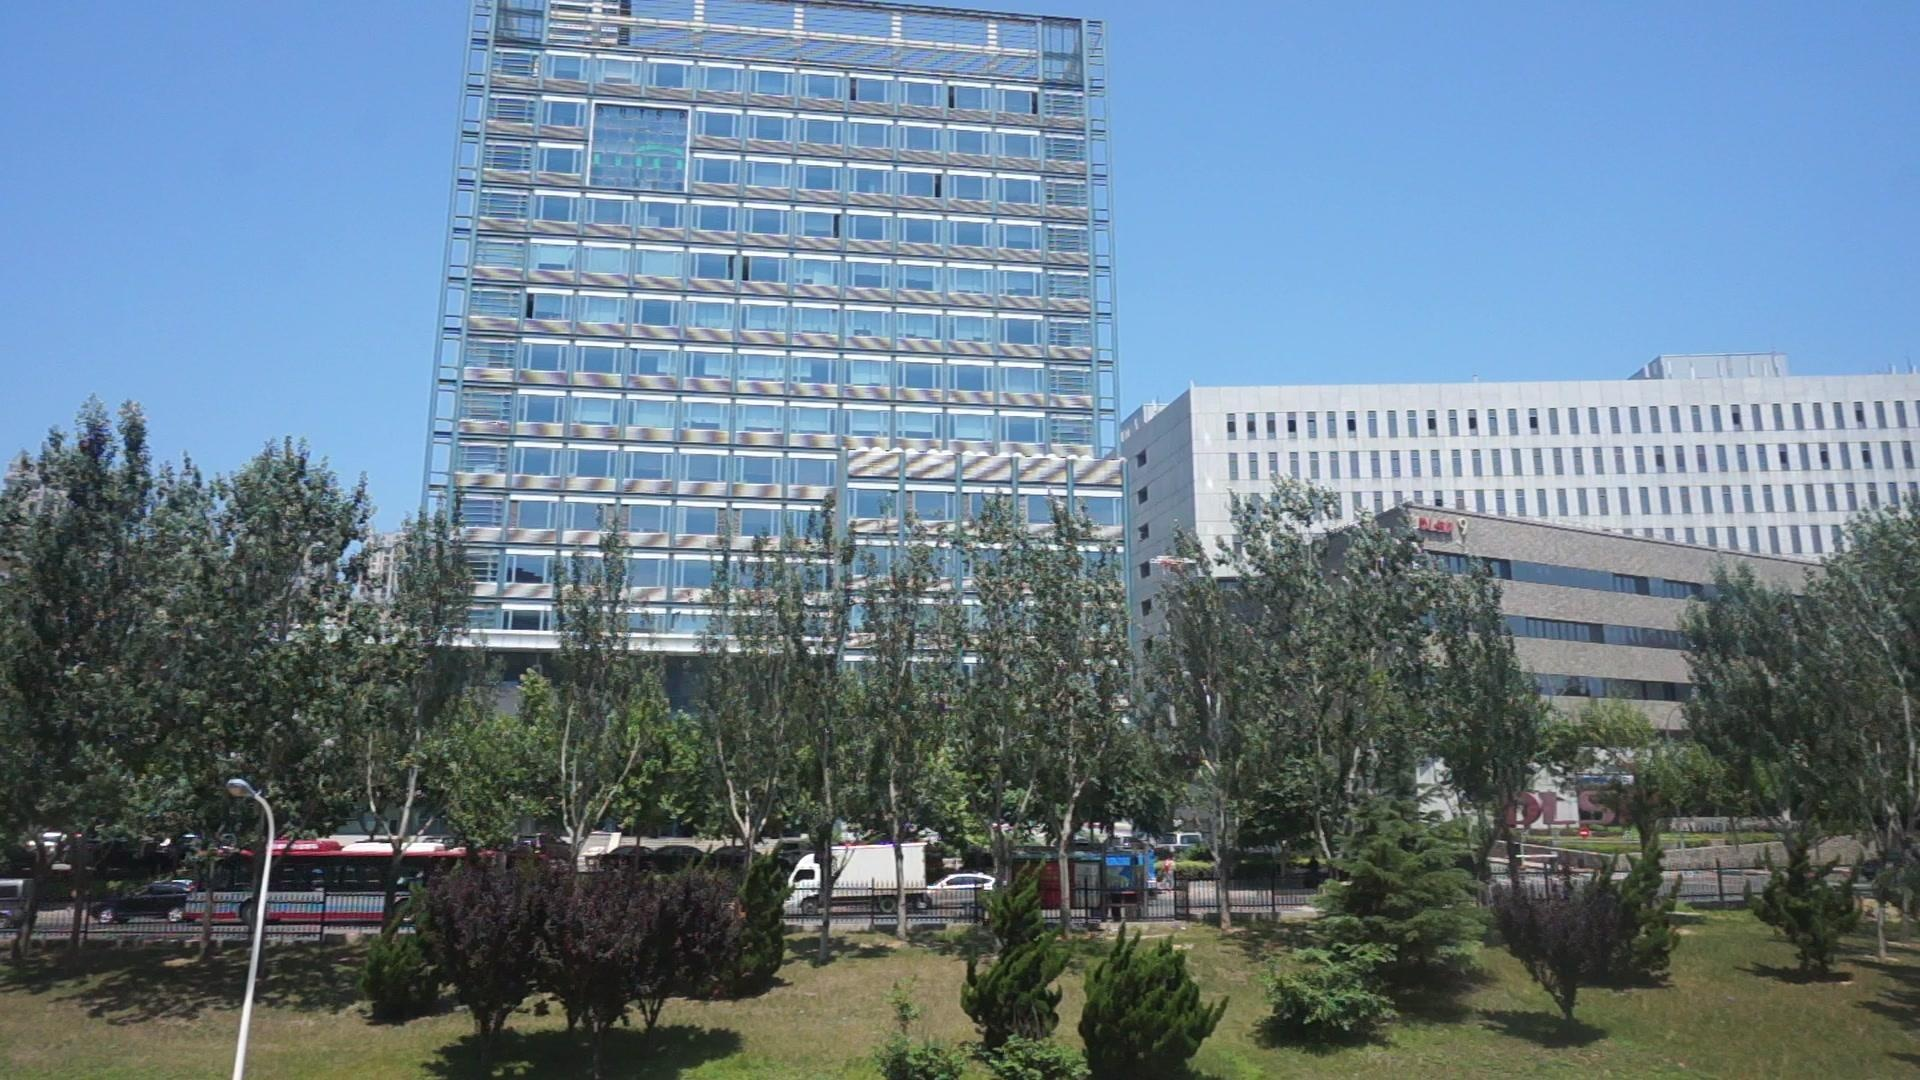UAV: (1149, 556, 1197, 575)
